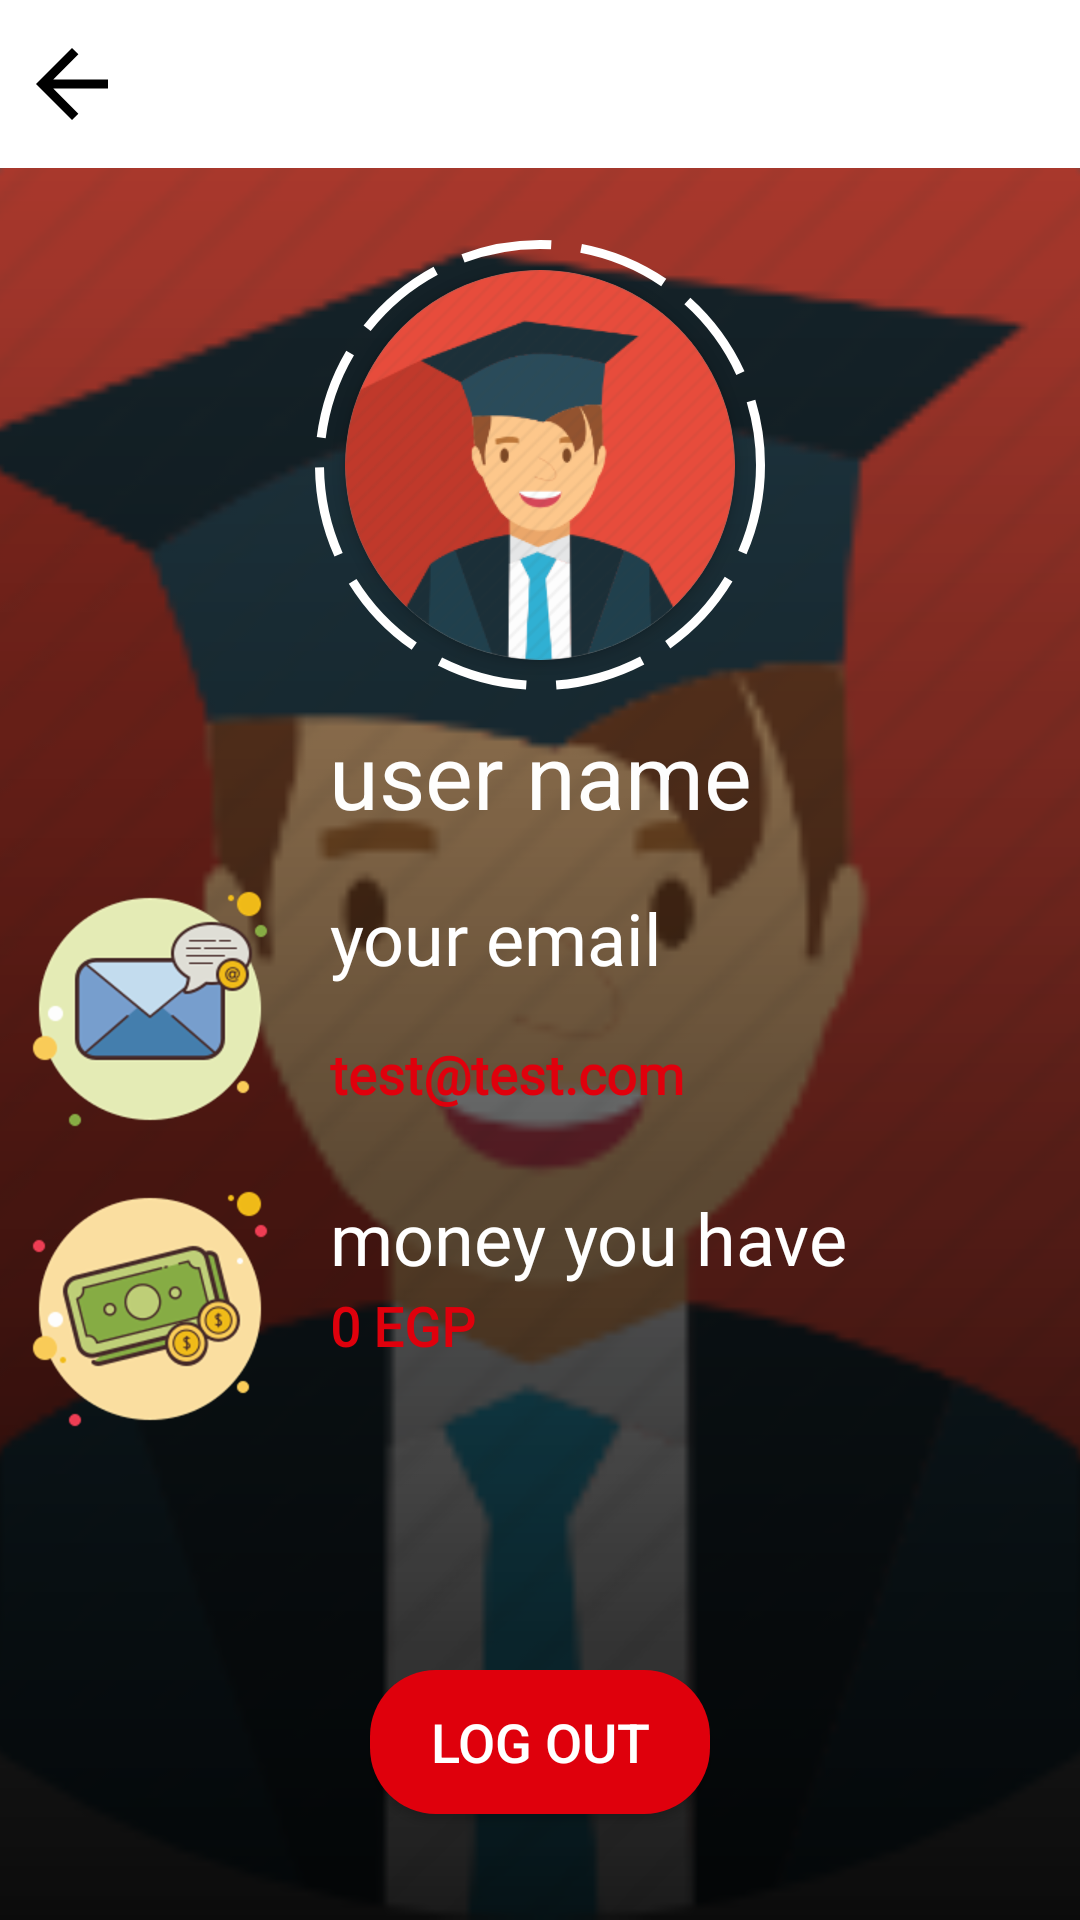

Where icons sit on this 1080 × 1920 app screen, as [x1=x1, y1=y1, x2=x2, y2=y2]:
back: [x1=36, y1=48, x2=108, y2=120]
